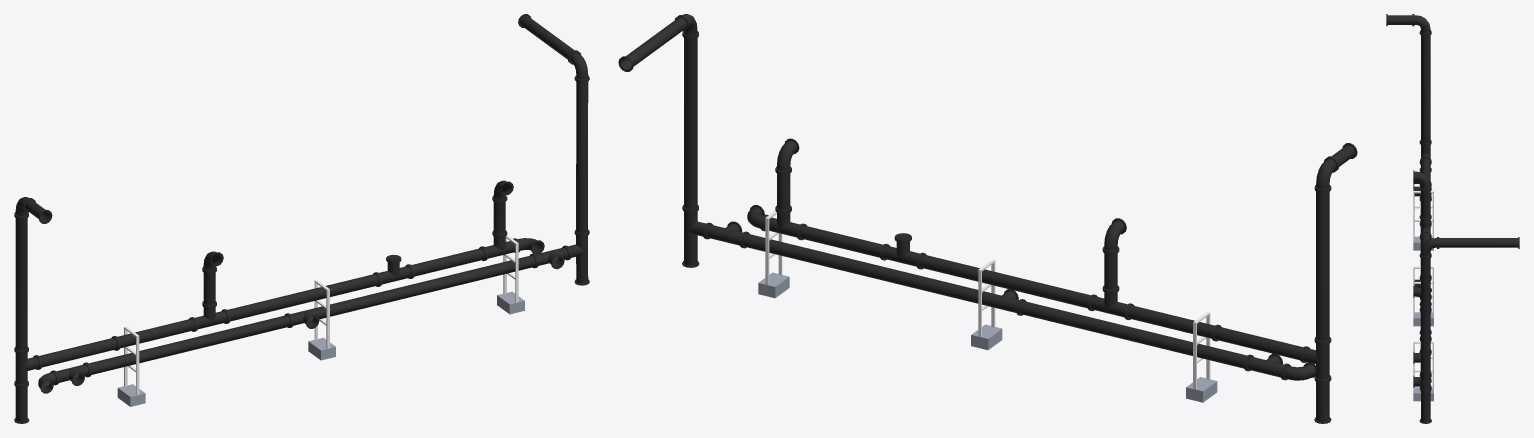
The model's file is SM_H_Building_Tide_Jail_B_01_Pipeline_05_ATLAS.fbx.
3 renders of one model, left to right at view 1: azimuth 30°, elevation 25°; view 2: azimuth 150°, elevation 25°; view 3: azimuth 270°, elevation 25°, orthographic. The views are drawn at different scales.
Visible parts, largest first — view 1: SM_H_Building_Tide_Jail_B_01_Pipeline_05_ATLAS; view 2: SM_H_Building_Tide_Jail_B_01_Pipeline_05_ATLAS; view 3: SM_H_Building_Tide_Jail_B_01_Pipeline_05_ATLAS.
Part boxes in pixels (x1,y1,x2,y2): SM_H_Building_Tide_Jail_B_01_Pipeline_05_ATLAS: (14, 14, 589, 423); SM_H_Building_Tide_Jail_B_01_Pipeline_05_ATLAS: (618, 14, 1357, 423); SM_H_Building_Tide_Jail_B_01_Pipeline_05_ATLAS: (1386, 14, 1519, 423).
Bounding box in the file's own units: 1015 × 251 × 395.
